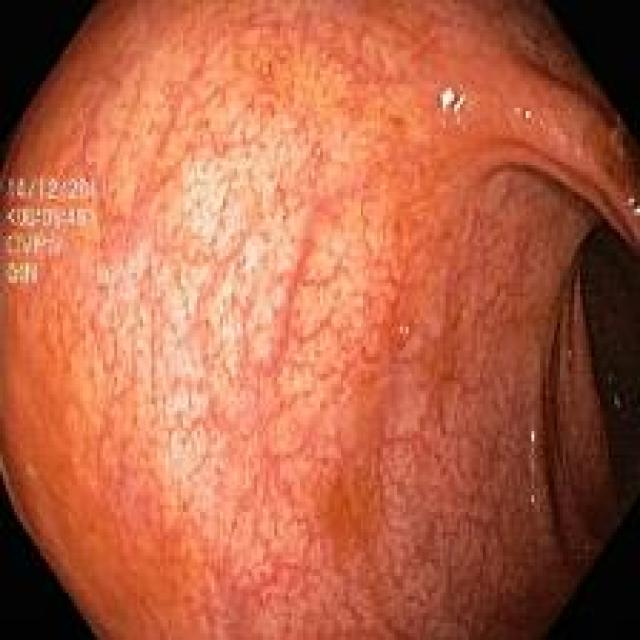ulcerative-colitis-grade-0-1: (20, 151, 449, 640), (409, 311, 570, 625), (118, 5, 418, 144)
